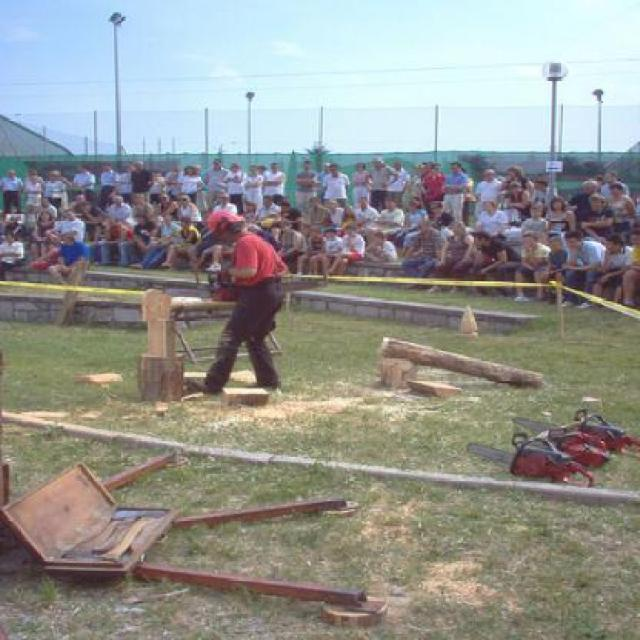Chainsaw: (468, 434, 592, 489), (511, 412, 634, 456)
